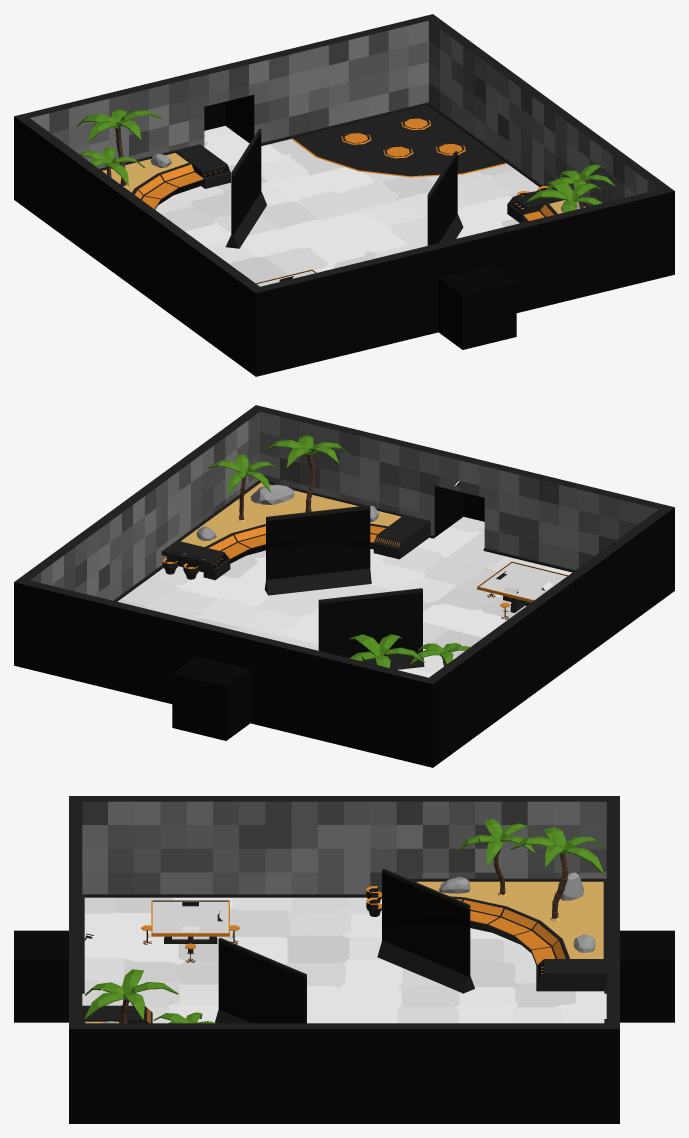
The model's file is Recreation_Room_1x1x2.fbx.
3 views of the same model, one above another, from view 1: azimuth 30°, elevation 25°; view 2: azimuth 150°, elevation 25°; view 3: azimuth 270°, elevation 25° (orthographic). The views are drawn at different scales.
Visible parts, largest first — view 1: Recreation_Room_1x1x2; view 2: Recreation_Room_1x1x2; view 3: Recreation_Room_1x1x2.
Boxes of the visible parts, x1,y1,x2,y2 form: Recreation_Room_1x1x2: (14,14,674,376); Recreation_Room_1x1x2: (14,405,674,767); Recreation_Room_1x1x2: (14,796,674,1123).
Bounding box in the file's own units: 42 × 50.4 × 8.19.
